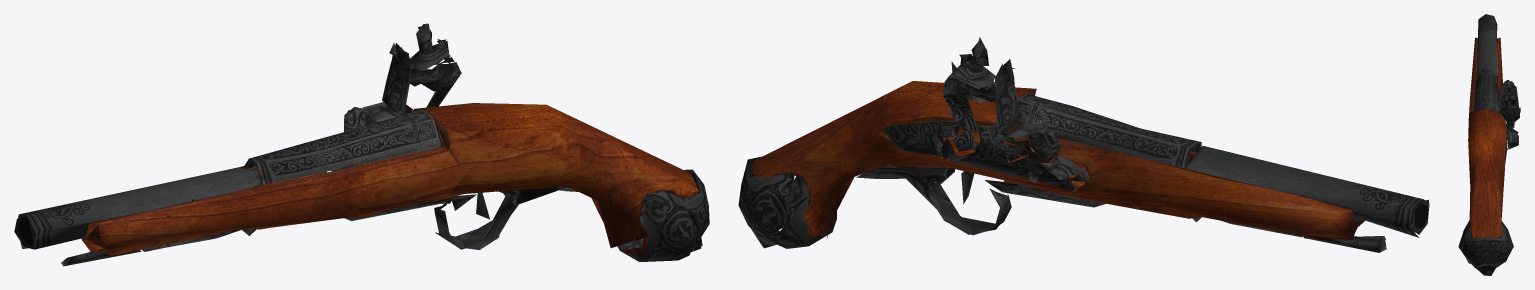
Rendered from flintlock_lod1.glb.
3 views of the same model, side by side, from view 1: azimuth 30°, elevation 25°; view 2: azimuth 150°, elevation 25°; view 3: azimuth 270°, elevation 25° (orthographic). The views are drawn at different scales.
Parts seen in each view (by area): view 1: flintlock_temp; view 2: flintlock_temp; view 3: flintlock_temp.
Boxes of the visible parts, x1,y1,x2,y2 form: flintlock_temp: (14,23,709,266); flintlock_temp: (738,37,1429,252); flintlock_temp: (1458,14,1520,275).
Bounding box in the file's own units: 0.3617 × 0.1419 × 0.0574.
Materials: 1 (1 with a texture image).
